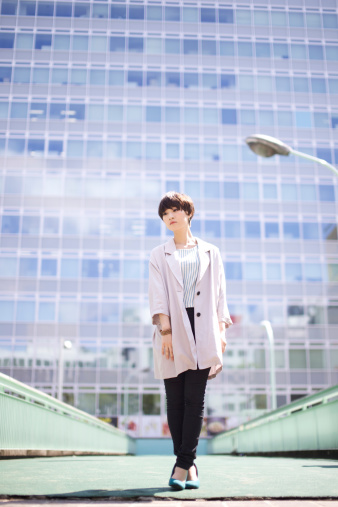em pe: (147, 180, 234, 506)
